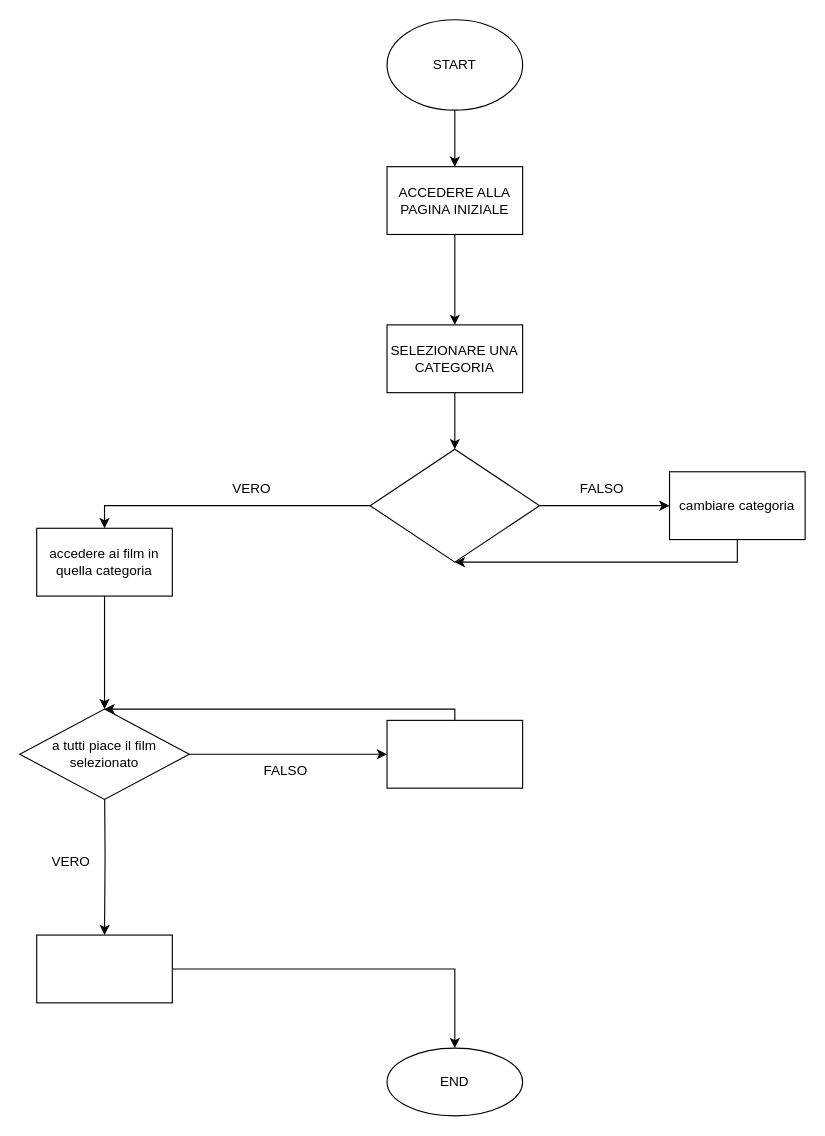
Some shapes in this 825 by 1136 pixel diagram are drawn without their labels. Each missing label, with the centre of its shape:
"a tutti piace la categoria selezionata" goes at (454,505).
"continuare a scorrere i film" goes at (454,753).
"iniziare a vedere il film" goes at (104,968).
